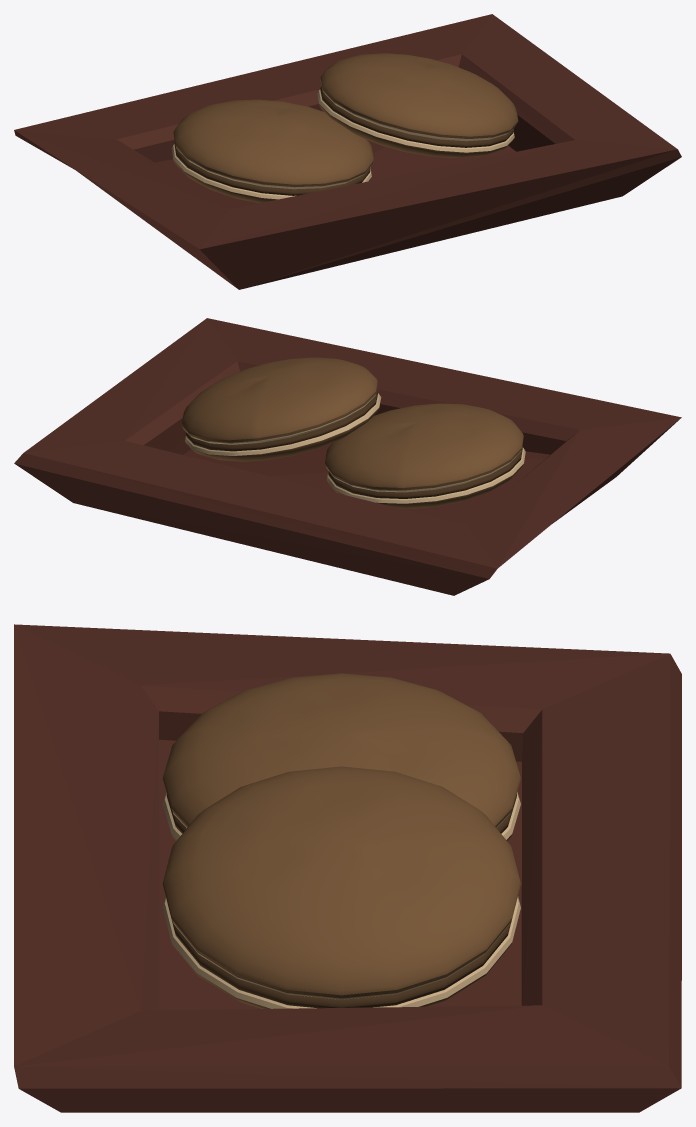
Rendered from Buns_small_ver_fbx.fbx.
3 views of the same model, one above another, from view 1: azimuth 30°, elevation 25°; view 2: azimuth 150°, elevation 25°; view 3: azimuth 270°, elevation 25° (orthographic). The views are drawn at different scales.
Parts seen in each view (by area): view 1: bun_plate, bun1Shape3, bun1Shape; view 2: bun_plate, bun1Shape3, bun1Shape; view 3: bun_plate, bun1Shape, bun1Shape3.
Part boxes in pixels (bbox=[...]): bun_plate: bbox=[14, 14, 681, 289]; bun1Shape3: bbox=[171, 99, 373, 203]; bun1Shape: bbox=[317, 53, 518, 158]; bun_plate: bbox=[14, 318, 681, 595]; bun1Shape3: bbox=[325, 403, 525, 508]; bun1Shape: bbox=[181, 357, 381, 461]; bun_plate: bbox=[14, 624, 681, 1112]; bun1Shape: bbox=[162, 766, 520, 1008]; bun1Shape3: bbox=[162, 673, 520, 840].
Size of the model in its own units: 7.5 by 1.66 by 5.07.
